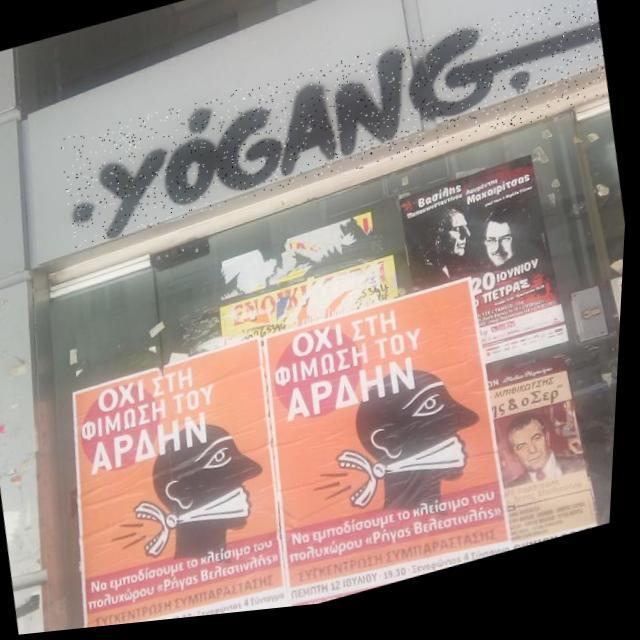-: (56, 1, 615, 252)
